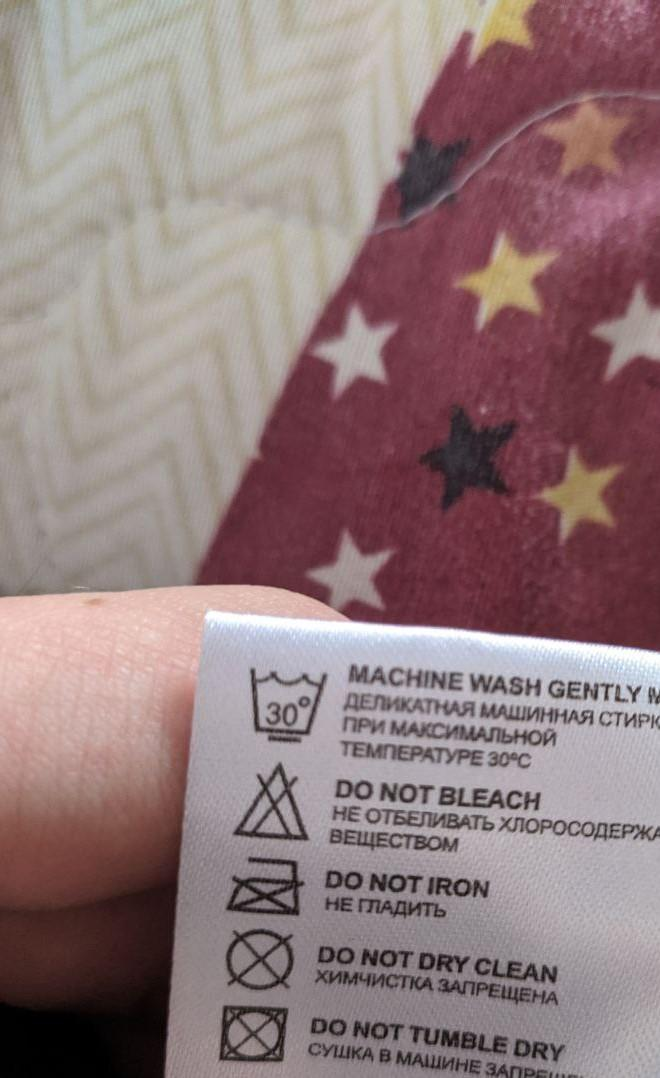30C: (246, 656, 328, 743)
DN_bleach: (228, 762, 313, 846)
DN_dry_clean: (219, 927, 300, 994)
DN_iron: (228, 854, 305, 923)
DN_tumble_dry: (211, 1000, 293, 1066)
